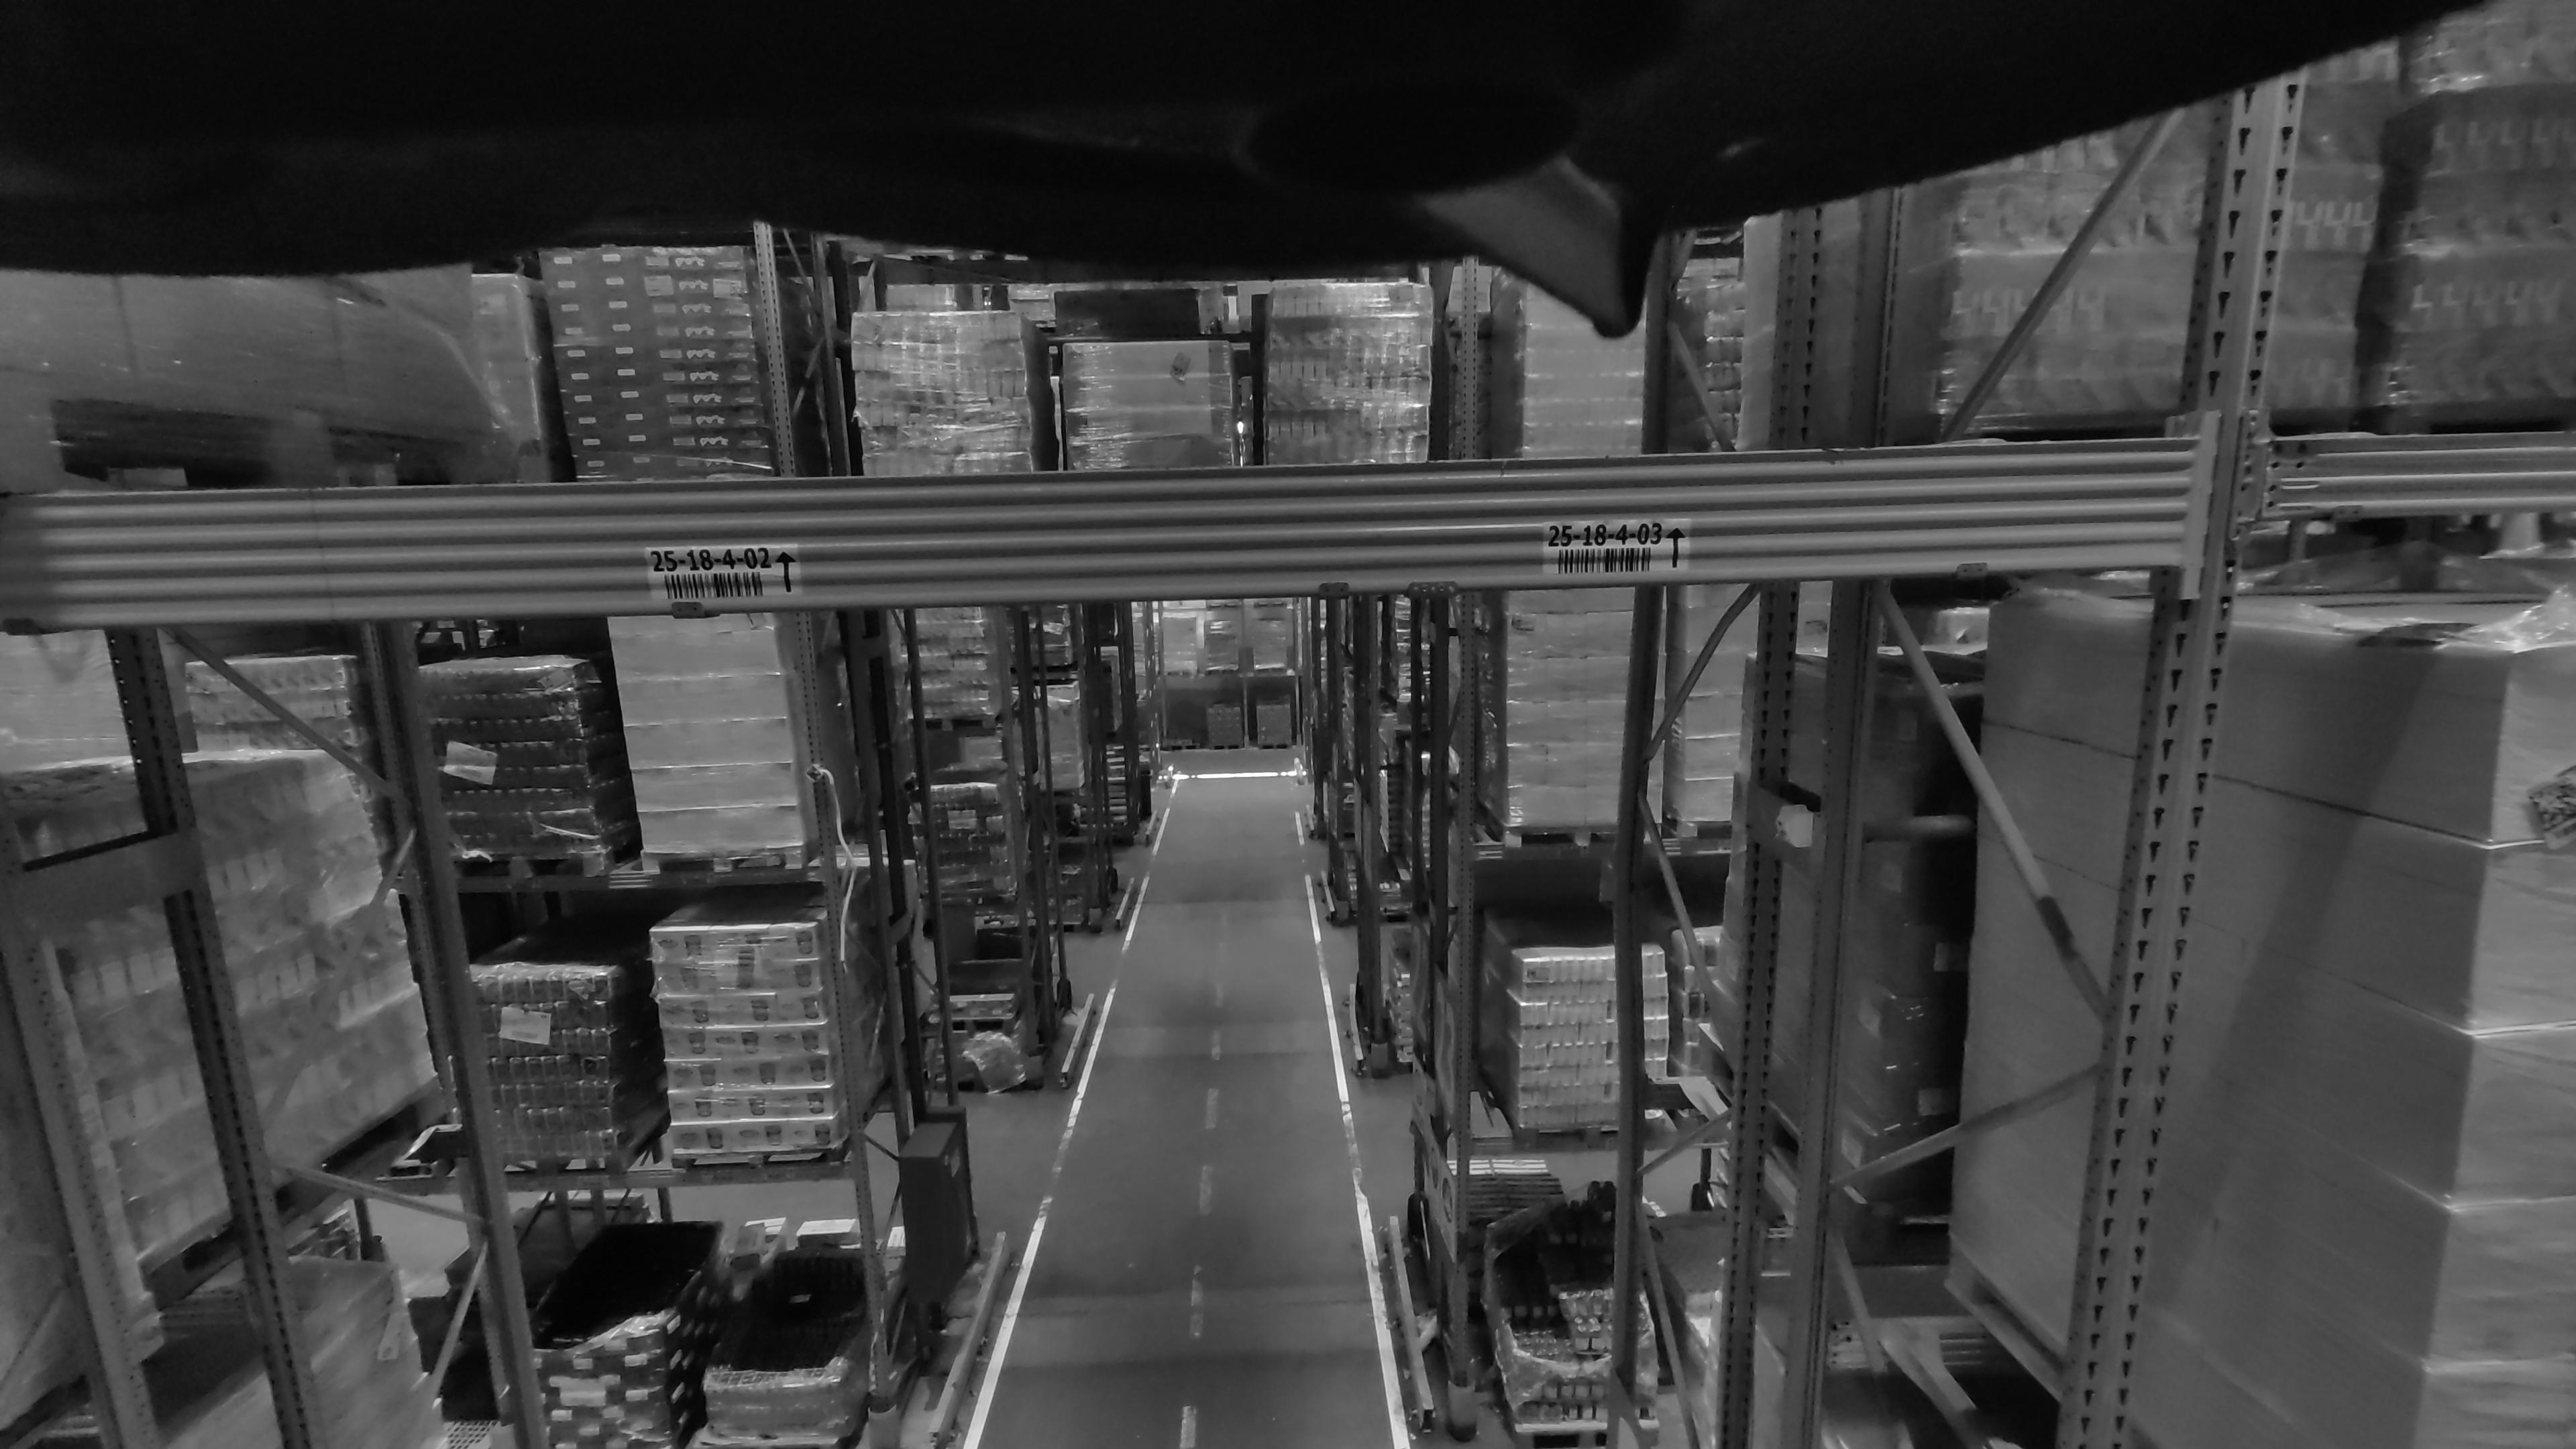empty-shelf: (1113, 186, 2130, 441), (111, 193, 1014, 465)
